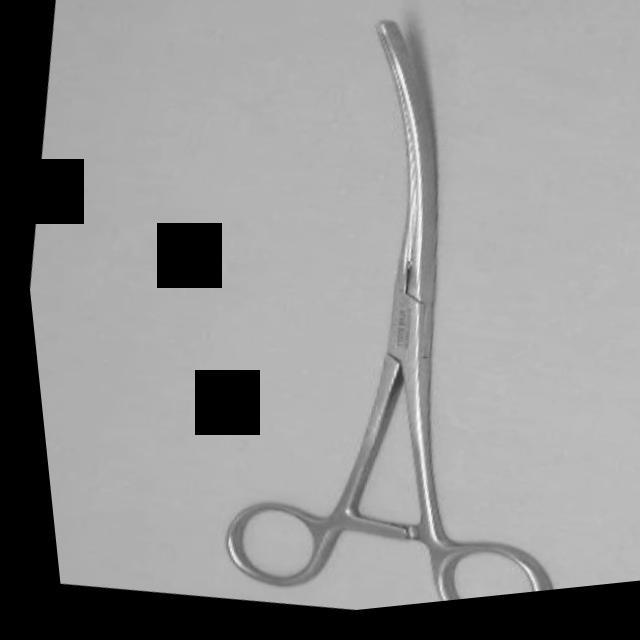Doyel Instestinal Forceps: (139, 0, 640, 629)
